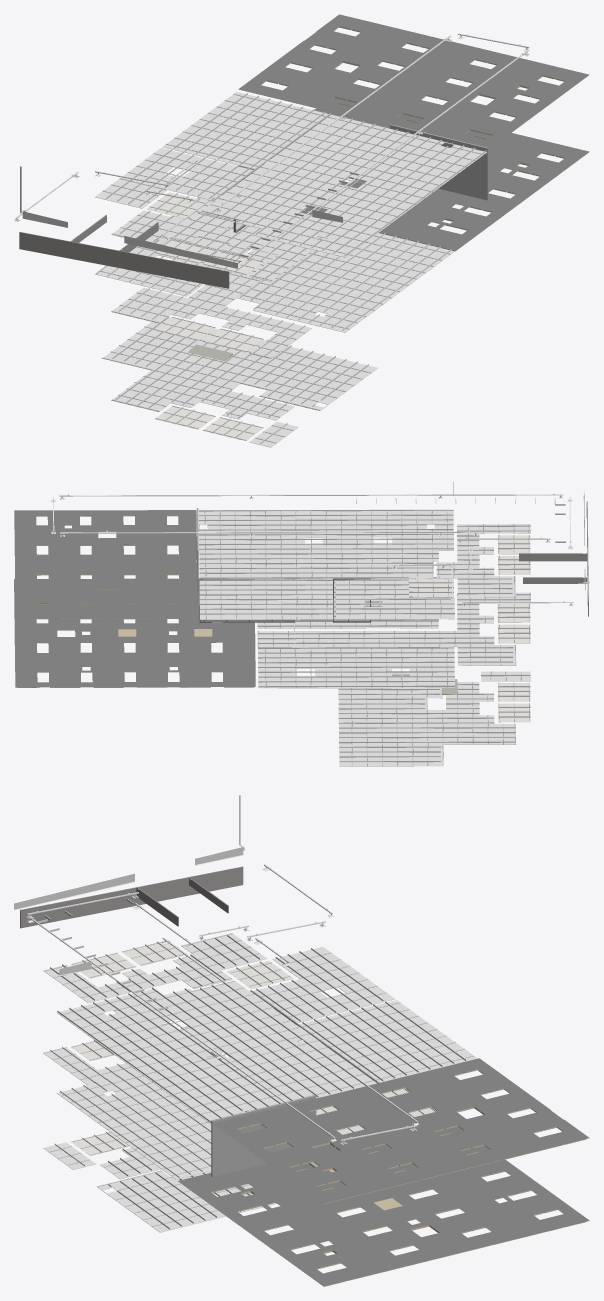
The model's file is pt-111-puesto-mando-hq-p07-v00.glb.
3 renders of one model, top to bottom at view 1: azimuth 30°, elevation 25°; view 2: azimuth 150°, elevation 25°; view 3: azimuth 270°, elevation 25°, orthographic. The views are drawn at different scales.
Visible parts, largest first — view 1: 3PW9JMFV9DjxGi_fYDGTAg, 3PW9JMFV9DjxGi_fYDGUM1, 3PW9JMFV9DjxGi_fYDGUNq, 3PW9JMFV9DjxGi_fYDGUM9, 3PW9JMFV9DjxGi_fYDGT3l, 3PW9JMFV9DjxGi_fYDGUMO, 3PW9JMFV9DjxGi_fYDGUPK, 3PW9JMFV9DjxGi_fYDGUMJ, 3PW9JMFV9DjxGi_fYDGUPX, 16UIKp2LL988D3$5B0EFCM, 3PW9JMFV9DjxGi_fYDGUME, 3qQLsjN99AnBw8YhHlDfEF (+10 smaller); view 2: 3PW9JMFV9DjxGi_fYDGTAg, 3PW9JMFV9DjxGi_fYDGT3l, 3PW9JMFV9DjxGi_fYDGUM1, 3PW9JMFV9DjxGi_fYDGUNq, 3PW9JMFV9DjxGi_fYDGUME, 3PW9JMFV9DjxGi_fYDGUPK, 3PW9JMFV9DjxGi_fYDGUMO, 3PW9JMFV9DjxGi_fYDGUMJ, 3PW9JMFV9DjxGi_fYDGUPX, 3PW9JMFV9DjxGi_fYDGUM9, 0VO_$Gt_LEl9yBGH$Rvdlk, 0VO_$Gt_LEl9yBGH$RvddU (+39 smaller); view 3: 3PW9JMFV9DjxGi_fYDGTAg, 3PW9JMFV9DjxGi_fYDGT3l, 3PW9JMFV9DjxGi_fYDGUM1, 3PW9JMFV9DjxGi_fYDGUM9, 3PW9JMFV9DjxGi_fYDGUMO, 3PW9JMFV9DjxGi_fYDGUMJ, 3PW9JMFV9DjxGi_fYDGUNq, 3PW9JMFV9DjxGi_fYDGUPX, 16UIKp2LL988D3$5B0EFCM, 3qQLsjN99AnBw8YhHlDfEF, 3PW9JMFV9DjxGi_fYDGTFf, 3PW9JMFV9DjxGi_fYDGUPK (+9 smaller).
Part boxes in pixels (x1,y1,x2,y2): 3PW9JMFV9DjxGi_fYDGTAg: (238,14,589,149); 3PW9JMFV9DjxGi_fYDGUM1: (201,114,486,257); 3PW9JMFV9DjxGi_fYDGUNq: (103,317,377,420); 3PW9JMFV9DjxGi_fYDGUM9: (237,233,454,332); 3PW9JMFV9DjxGi_fYDGT3l: (228,97,589,250); 3PW9JMFV9DjxGi_fYDGUMO: (162,92,328,169); 3PW9JMFV9DjxGi_fYDGUPK: (111,236,319,358); 3PW9JMFV9DjxGi_fYDGUMJ: (95,148,252,208); 3PW9JMFV9DjxGi_fYDGUPX: (111,210,311,281); 16UIKp2LL988D3$5B0EFCM: (19,232,229,288); 3PW9JMFV9DjxGi_fYDGUME: (95,197,260,296); 3qQLsjN99AnBw8YhHlDfEF: (390,124,488,200); 3PW9JMFV9DjxGi_fYDGTAg: (14,510,197,618); 3PW9JMFV9DjxGi_fYDGT3l: (14,578,255,687); 3PW9JMFV9DjxGi_fYDGUM1: (198,511,453,578); 3PW9JMFV9DjxGi_fYDGUNq: (338,672,516,766); 3PW9JMFV9DjxGi_fYDGUME: (258,648,454,688); 3PW9JMFV9DjxGi_fYDGUPK: (257,592,530,665); 3PW9JMFV9DjxGi_fYDGUMO: (199,581,333,619); 3PW9JMFV9DjxGi_fYDGUMJ: (335,580,454,619); 3PW9JMFV9DjxGi_fYDGUPX: (436,524,530,597); 3PW9JMFV9DjxGi_fYDGUM9: (257,578,453,628); 0VO_$Gt_LEl9yBGH$Rvdlk: (59,493,563,499); 0VO_$Gt_LEl9yBGH$RvddU: (60,531,478,536); 3PW9JMFV9DjxGi_fYDGTAg: (213,1058,589,1203); 3PW9JMFV9DjxGi_fYDGT3l: (178,1126,589,1286); 3PW9JMFV9DjxGi_fYDGUM1: (57,981,376,1124); 3PW9JMFV9DjxGi_fYDGUM9: (57,1072,248,1179); 3PW9JMFV9DjxGi_fYDGUMO: (299,1000,477,1082); 3PW9JMFV9DjxGi_fYDGUMJ: (253,947,394,1023); 3PW9JMFV9DjxGi_fYDGUNq: (97,1148,276,1232); 3PW9JMFV9DjxGi_fYDGUPX: (43,933,267,1002); 16UIKp2LL988D3$5B0EFCM: (20,866,243,928); 3qQLsjN99AnBw8YhHlDfEF: (211,1095,316,1177); 3PW9JMFV9DjxGi_fYDGTFf: (211,1133,585,1286); 3PW9JMFV9DjxGi_fYDGUPK: (43,1026,251,1111).
Bounding box in the file's own units: 33.04 × 13.1 × 25.3.
